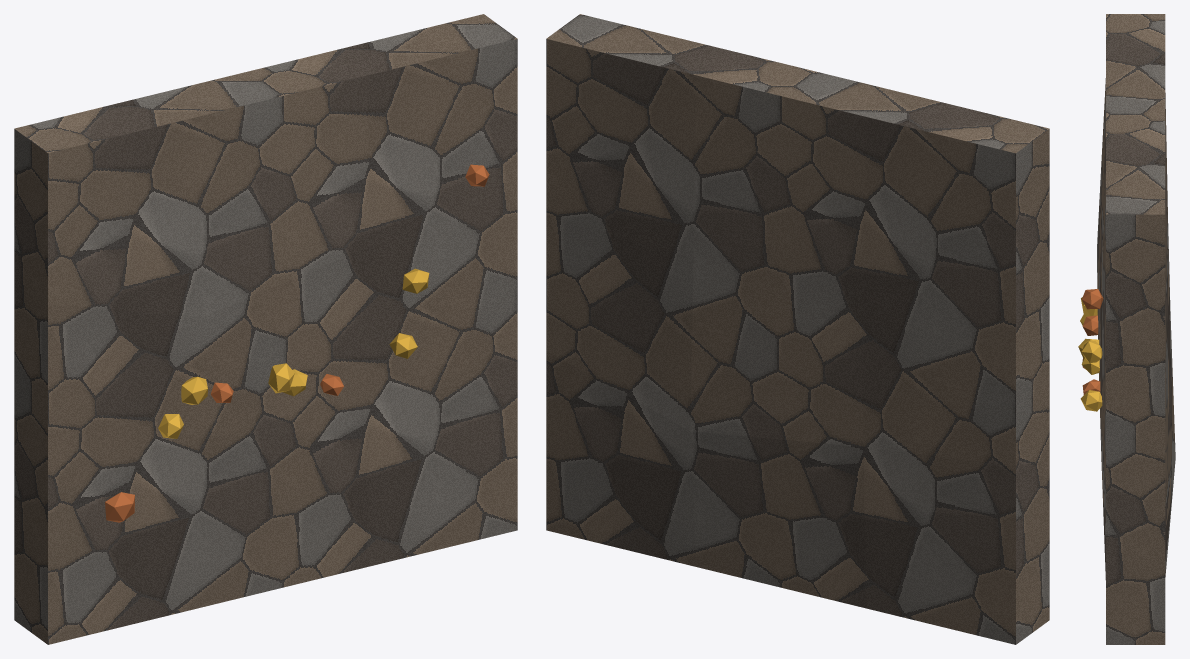
Rendered from mine_wall_ore.glb.
3 views of the same model, side by side, from view 1: azimuth 30°, elevation 25°; view 2: azimuth 150°, elevation 25°; view 3: azimuth 270°, elevation 25° (orthographic). The views are drawn at different scales.
Visible parts, largest first — view 1: mine_wall_ore; view 2: mine_wall_ore; view 3: mine_wall_ore.
Part boxes in pixels (left/top/right/bottom): mine_wall_ore: left=14, top=14, right=517, bottom=644; mine_wall_ore: left=546, top=14, right=1049, bottom=644; mine_wall_ore: left=1078, top=14, right=1175, bottom=644.
Size of the model in its own units: 4 by 4 by 0.8207.
Materials: 3 (1 with a texture image).
